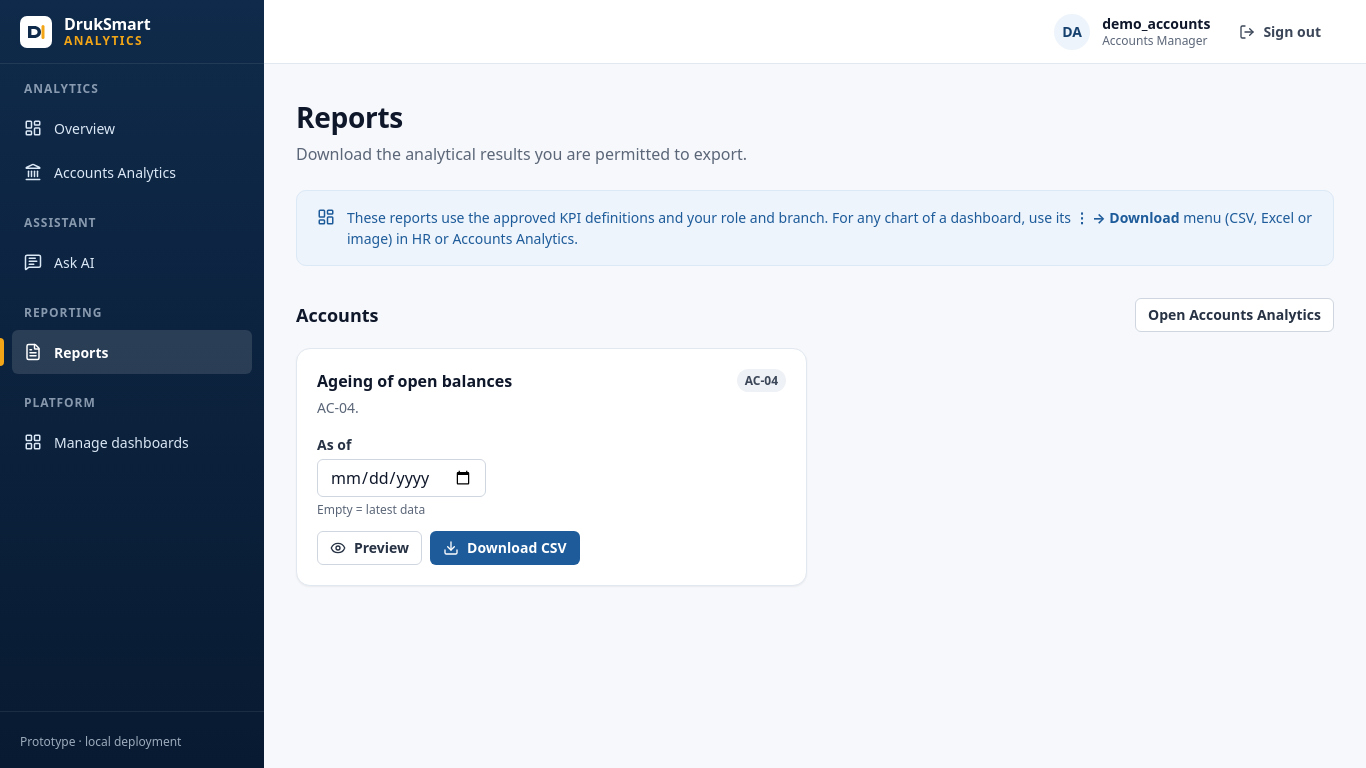
Scenario: Reports › previews a report as a chart and table
Type "2026-10-25" into the date field labelled "As of".
click(402, 478); type("2026-10-25")  # box [317,459,486,497]
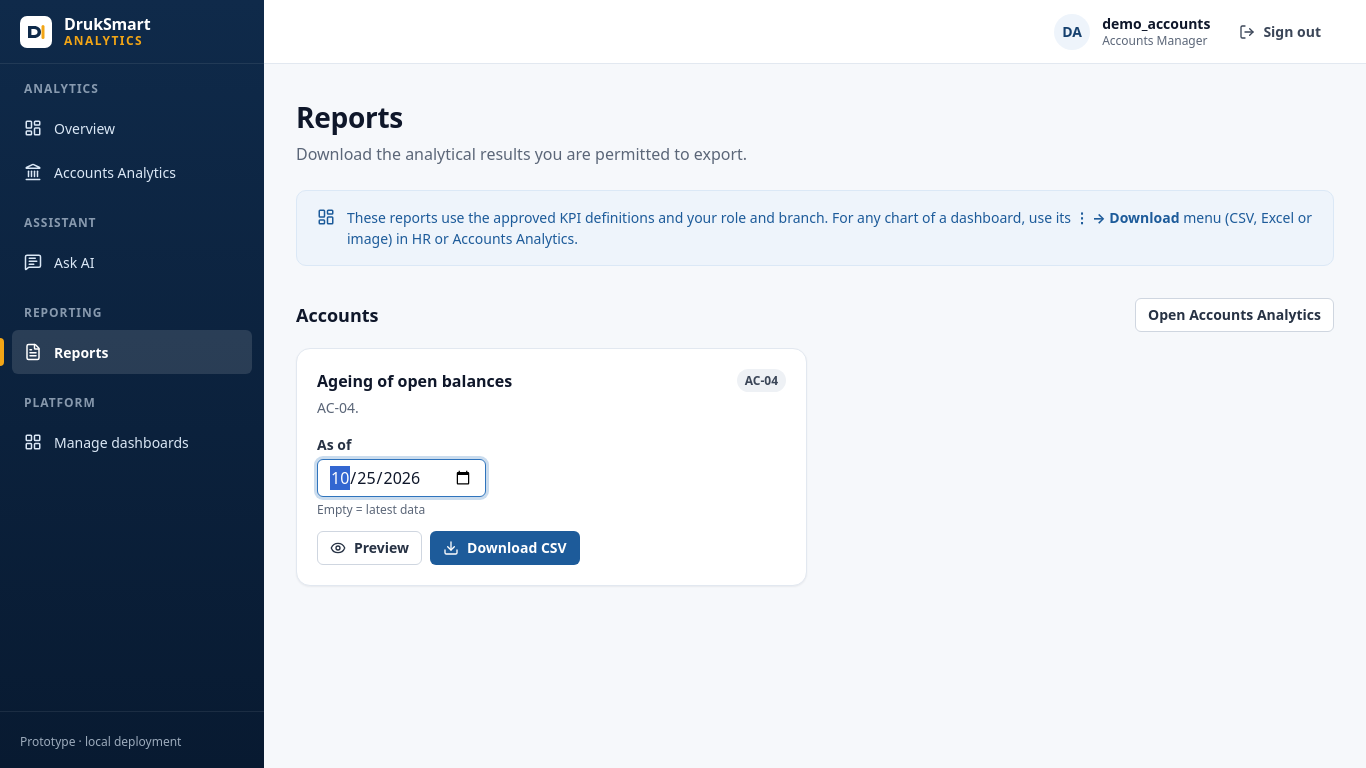
Click the button "Preview".
click(370, 548)  # box [317,531,422,565]
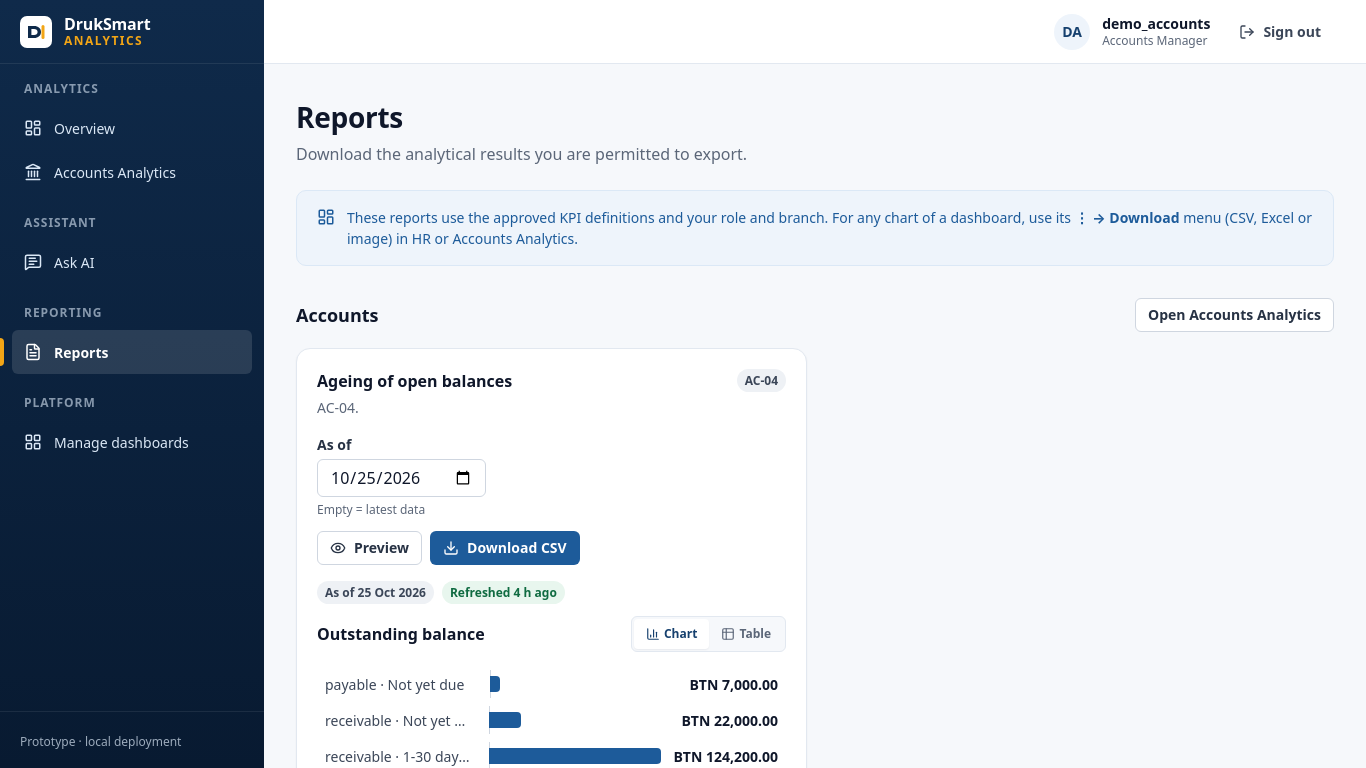
expect the text "As of 25 Oct 2026" is shown: met, box [317,581,434,604]
